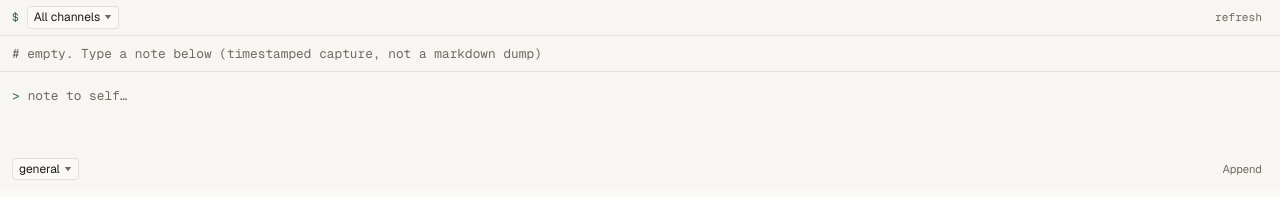
Test: ShellChat composer › opens channel options in the app sans font instead of a native select
Step 1. Click the button with aria-label "Channel" → (45, 169), box [12, 158, 79, 180]
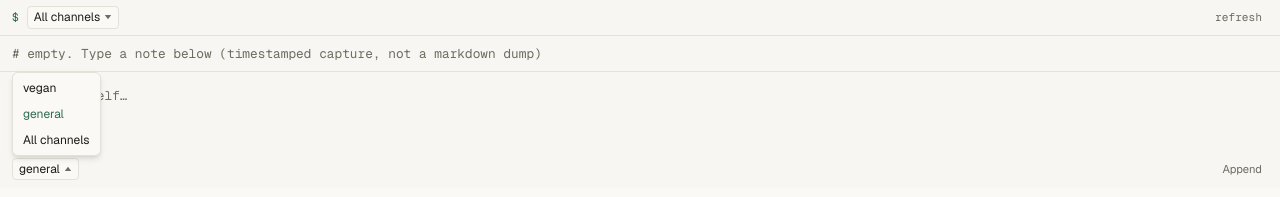
Now the list is shown, box [12, 72, 100, 156]
Now the list shows "vegan", box [13, 75, 100, 101]
Now the list shows "All channels", box [13, 127, 100, 153]
